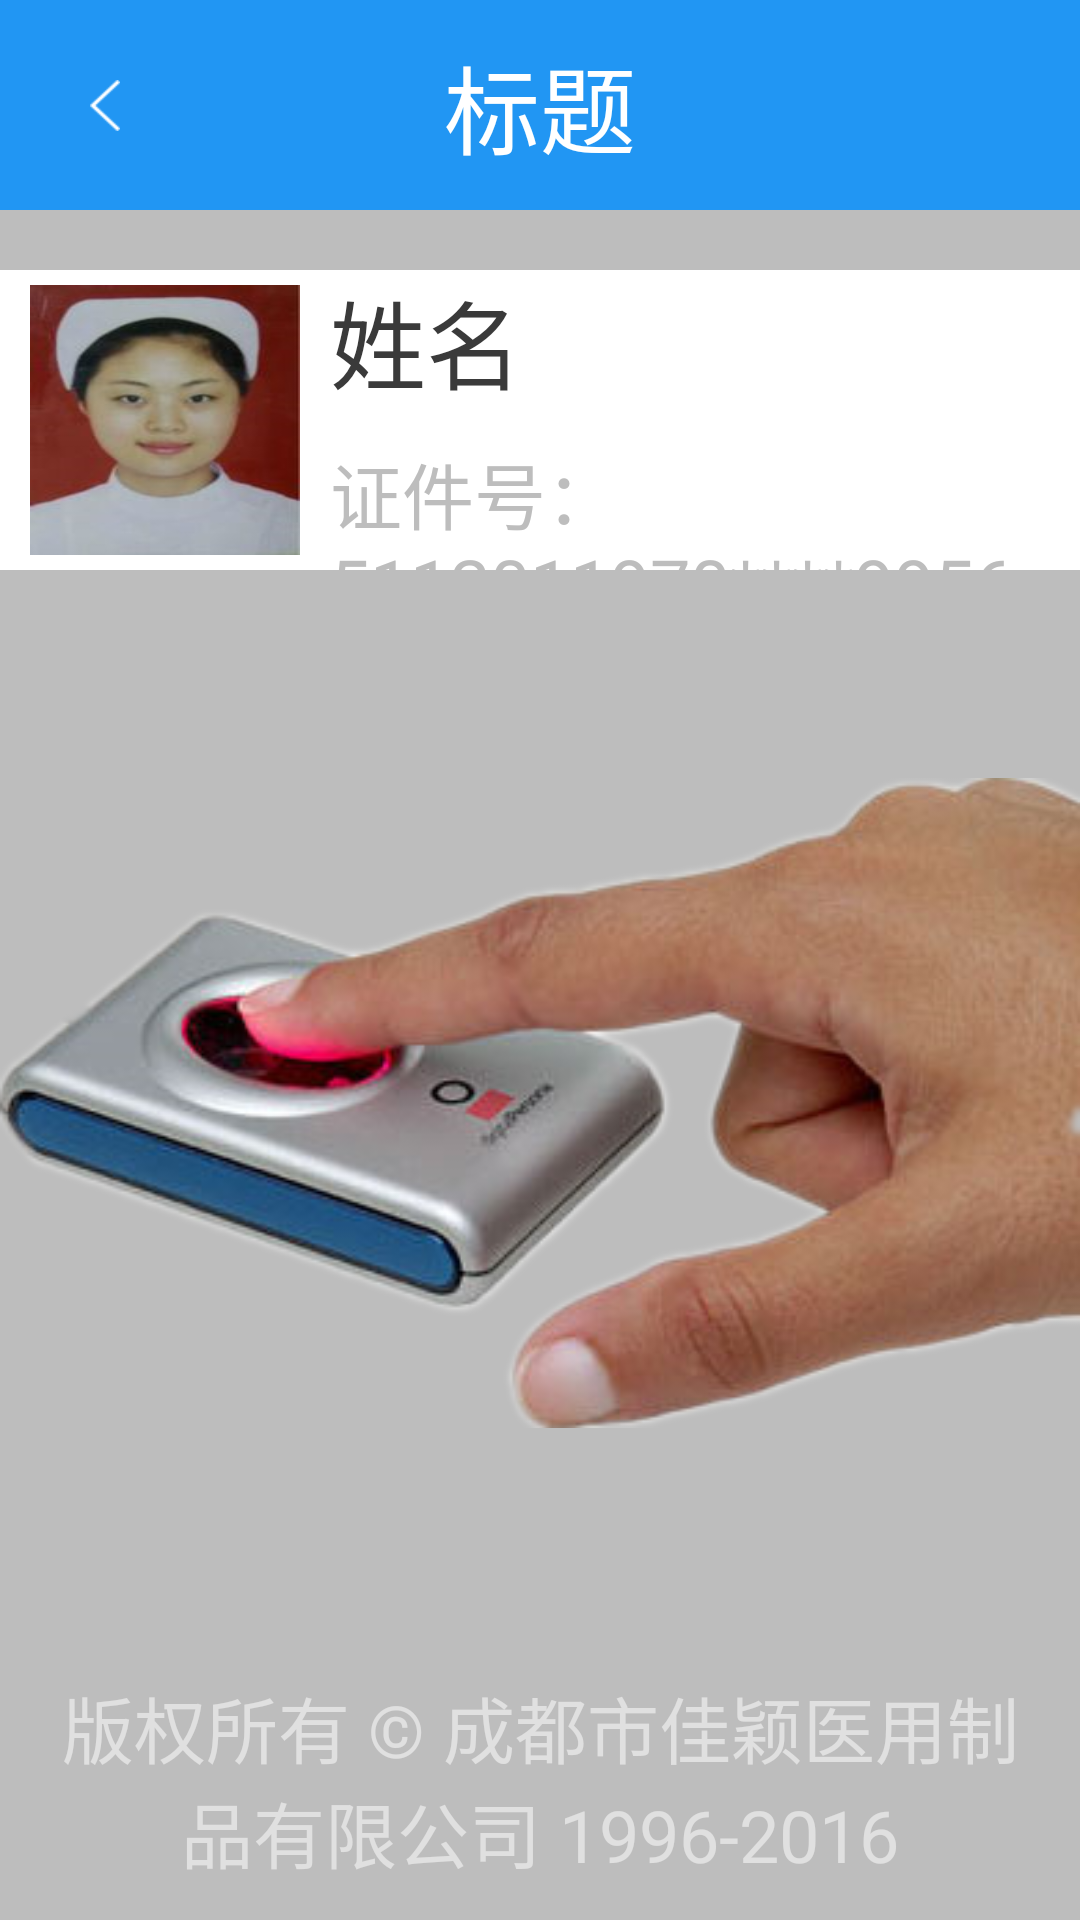

Named icons in this screenshot (1080*1920) and their bounding boxes, (x1, y1, x2, y2):
jiantou press: (90, 80, 120, 131)
norse: (30, 285, 300, 555)
